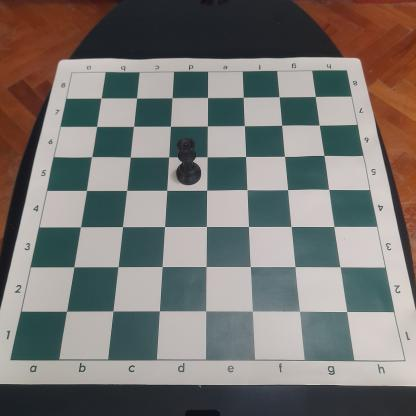black-queen: (174, 136, 202, 186)
